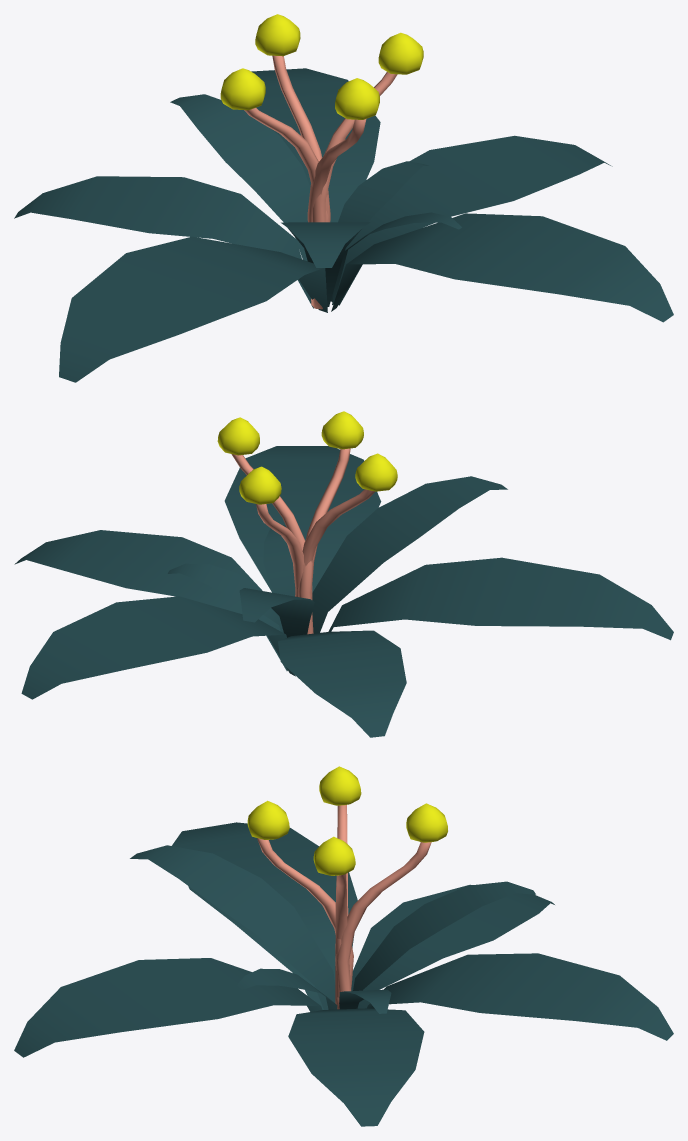
Rendered from C_FruitOfJoy_2.fbx.
3 views of the same model, one above another, from view 1: azimuth 30°, elevation 25°; view 2: azimuth 150°, elevation 25°; view 3: azimuth 270°, elevation 25° (orthographic). The views are drawn at different scales.
Parts seen in each view (by area): view 1: 4A.002; view 2: 4A.002; view 3: 4A.002.
Part boxes in pixels (x1=…): 4A.002: x1=14, y1=14, x2=673, y2=382; 4A.002: x1=14, y1=411, x2=673, y2=737; 4A.002: x1=14, y1=766, x2=673, y2=1126.
Bounding box in the file's own units: 116 × 45.4 × 112.
